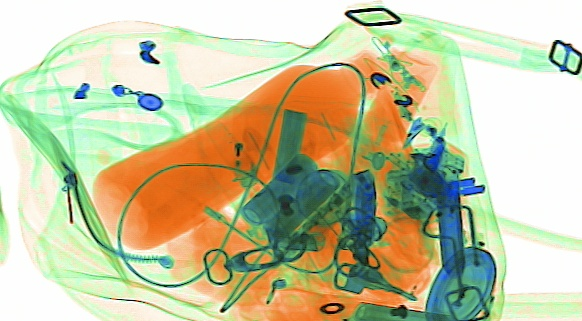lighter: (228, 95, 265, 189)
powerbank: (232, 147, 354, 262)
